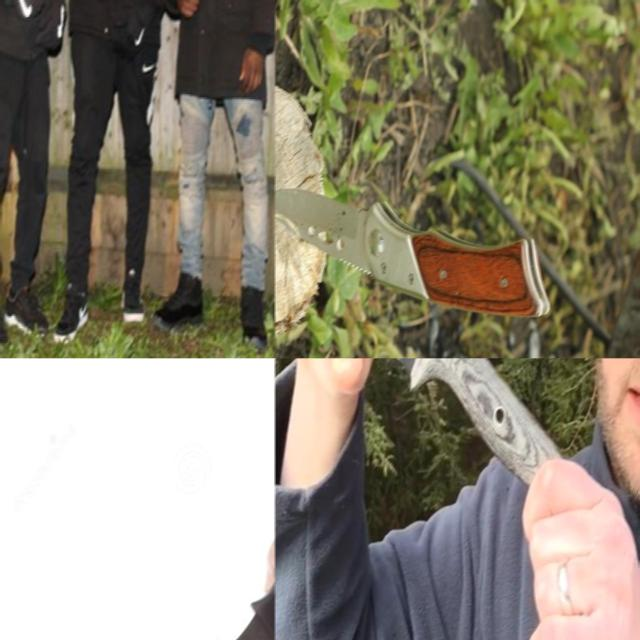Knife: (398, 358, 558, 482)
Knife_Handle: (66, 419, 275, 640), (15, 0, 68, 21)
